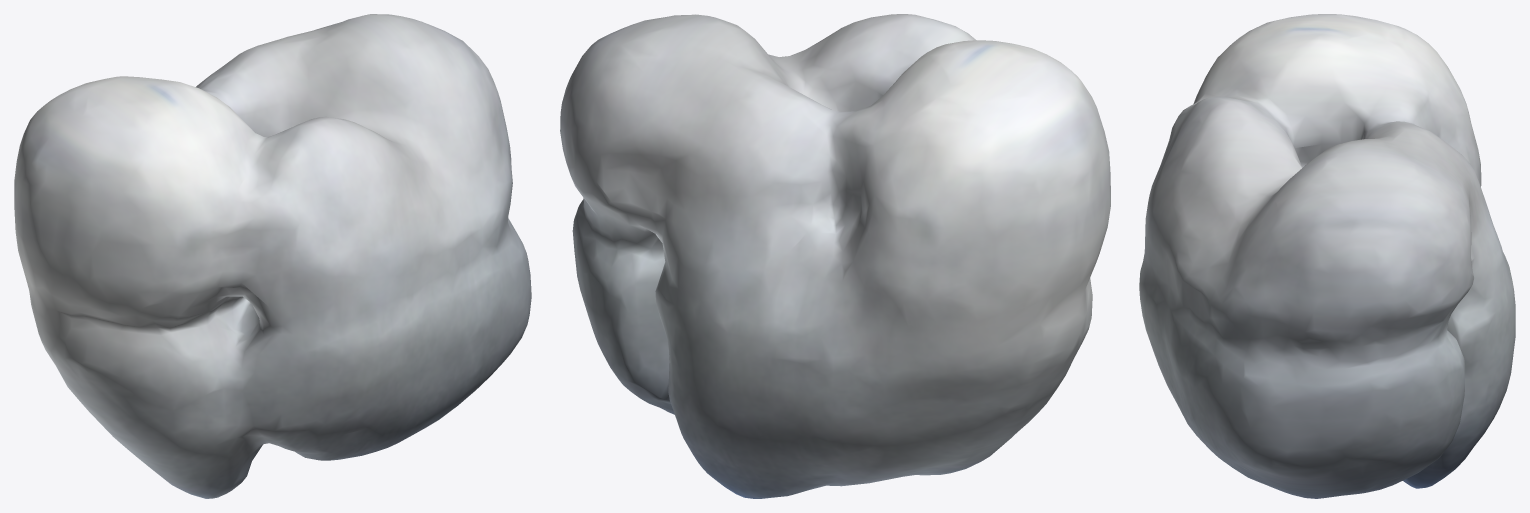
The model's file is 雲二版.fbx.
3 views of the same model, side by side, from view 1: azimuth 30°, elevation 25°; view 2: azimuth 150°, elevation 25°; view 3: azimuth 270°, elevation 25° (orthographic). The views are drawn at different scales.
Parts seen in each view (by area): view 1: Mesh_0; view 2: Mesh_0; view 3: Mesh_0.
Boxes of the visible parts, bbox=[...] form: Mesh_0: bbox=[14, 14, 531, 498]; Mesh_0: bbox=[560, 14, 1110, 498]; Mesh_0: bbox=[1139, 14, 1515, 498].
Bounding box in the file's own units: 100 × 73.56 × 83.8.
